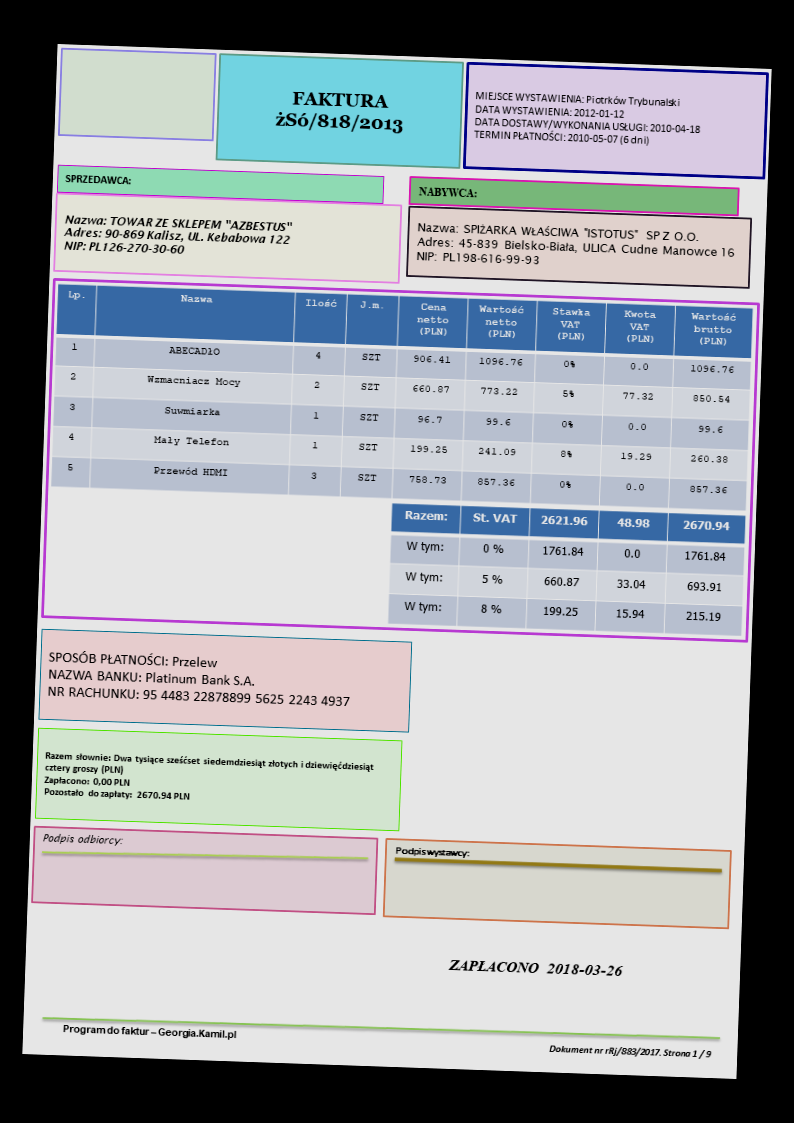Table: (49, 283, 754, 512), (386, 502, 746, 636)
TextBox: (45, 646, 354, 711), (41, 750, 376, 809), (413, 220, 737, 275), (471, 86, 703, 150), (61, 213, 293, 260), (272, 88, 407, 136), (445, 955, 625, 980), (61, 1020, 238, 1042), (547, 1042, 713, 1063), (39, 830, 125, 850), (393, 845, 470, 861), (62, 171, 133, 188), (416, 184, 479, 201)
